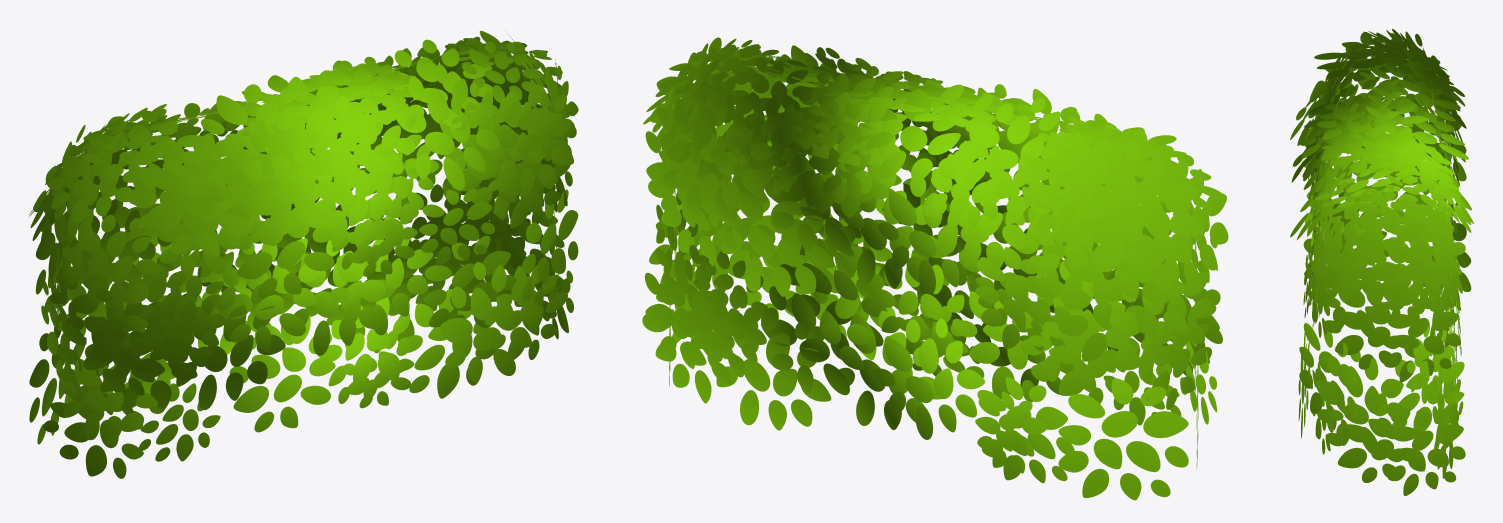
File: Bush_Large.glb
3 renders of one model, left to right at view 1: azimuth 30°, elevation 25°; view 2: azimuth 150°, elevation 25°; view 3: azimuth 270°, elevation 25°, orthographic. The views are drawn at different scales.
Parts seen in each view (by area): view 1: Bush_Large; view 2: Bush_Large; view 3: Bush_Large.
Part boxes in pixels (x1,y1,x2,y2): Bush_Large: [29, 31, 578, 478]; Bush_Large: [642, 37, 1228, 500]; Bush_Large: [1290, 28, 1473, 495].
Bounding box in the file's own units: 1.9 × 1.22 × 0.7239.
Materials: 1 (1 with a texture image).
